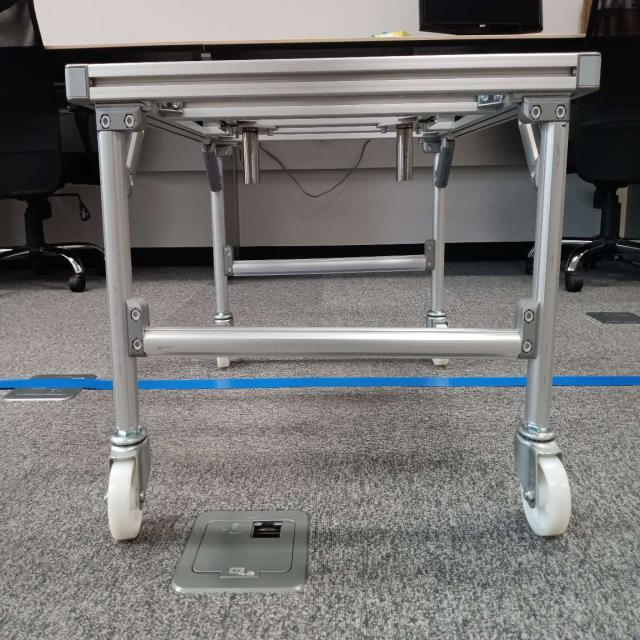side: (94, 50, 576, 360)
